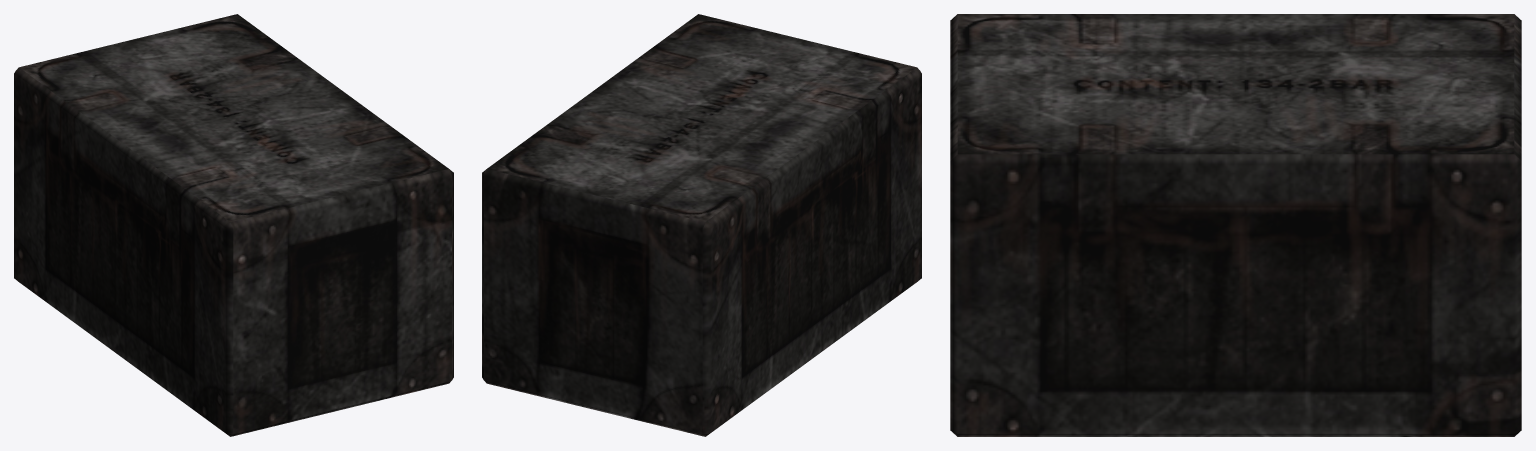
Rendered from box_crate03.dae.
The picture shows the model from 3 angles, left to right: view 1: azimuth 30°, elevation 25°; view 2: azimuth 150°, elevation 25°; view 3: azimuth 270°, elevation 25°; orthographic projection. The views are drawn at different scales.
Parts seen in each view (by area): view 1: mbox; view 2: mbox; view 3: mbox.
Part boxes in pixels (x1,y1,x2,y2): mbox: (14, 14, 453, 436); mbox: (482, 14, 921, 436); mbox: (950, 14, 1521, 436).
Size of what is drawn, in the model's own units: 0.921 by 0.8277 by 1.52.
